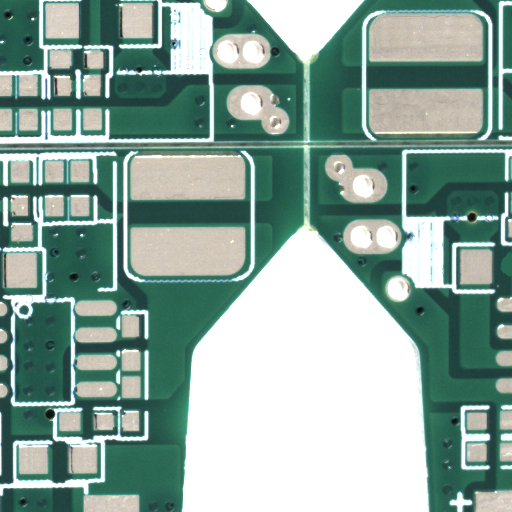Spur: (506, 264, 512, 289)
